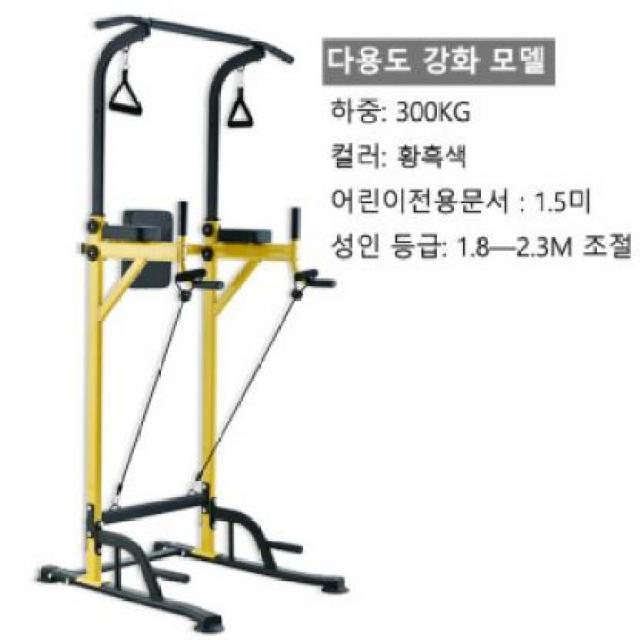chinning dipping: (34, 14, 323, 635)
